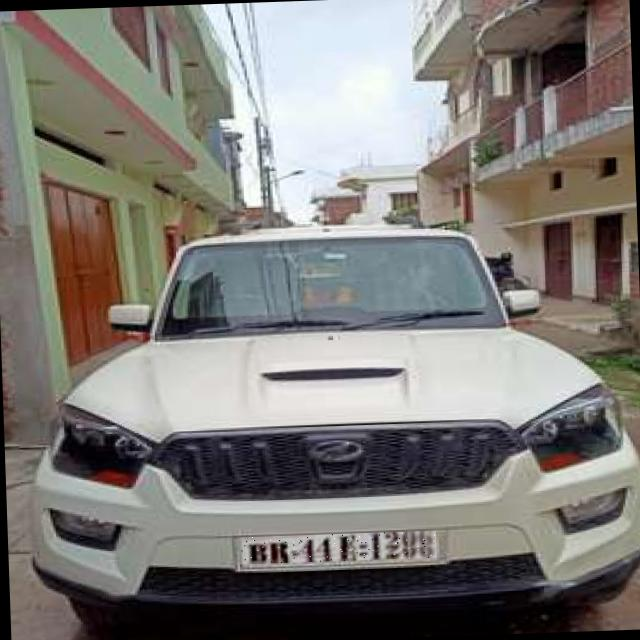Plate: (240, 531, 438, 565)
